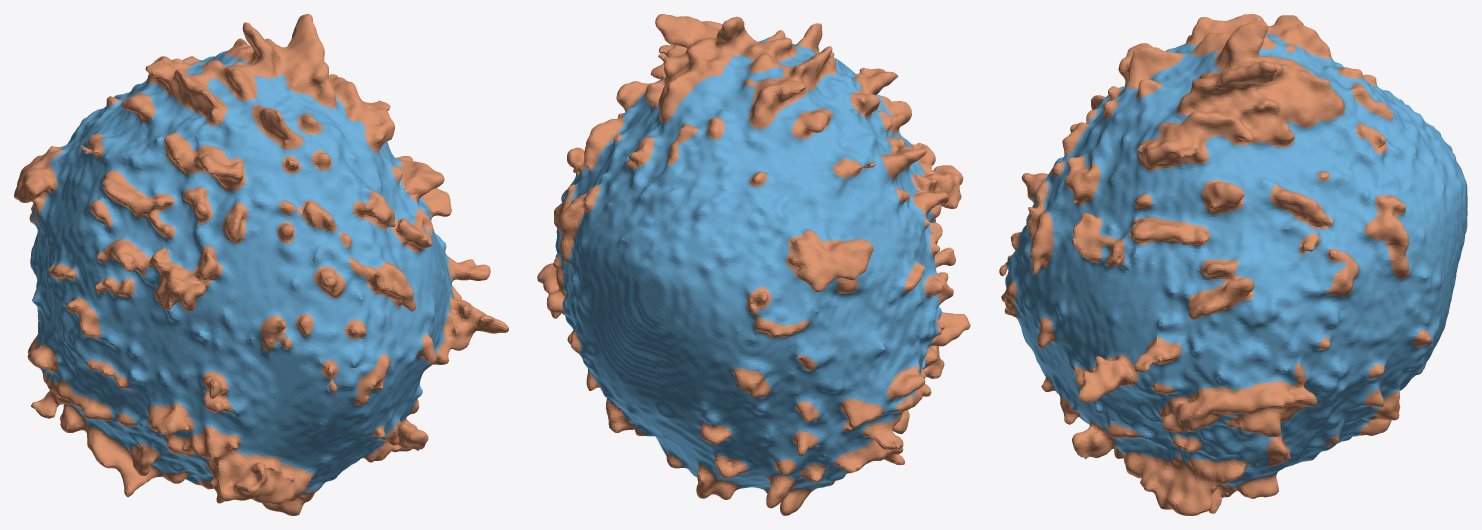
3 renders of one model, left to right at view 1: azimuth 30°, elevation 25°; view 2: azimuth 150°, elevation 25°; view 3: azimuth 270°, elevation 25°, orthographic. The views are drawn at different scales.
Bounding box in the file's own units: 142 × 155 × 144.
